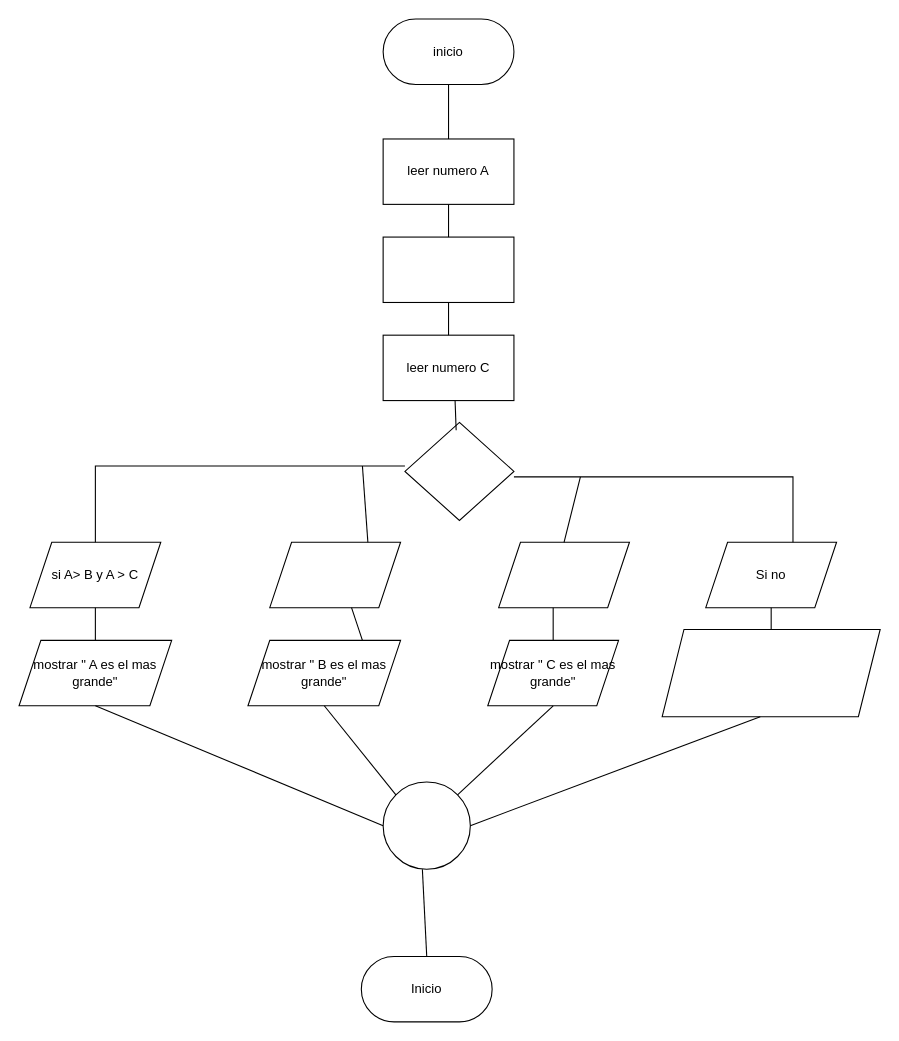
Image size: 899x1041. Some labels were removed from this diagram. The centre of each missing label's shape, as x and y in pixels:
comparar numeros: point 459,470
leer numero B: point 448,269
mostrar " Hay numeros iguales o varios que son los más grandes: point 770,672
si B> A y B > C: point 335,574
si C> A y C > B: point 563,574
